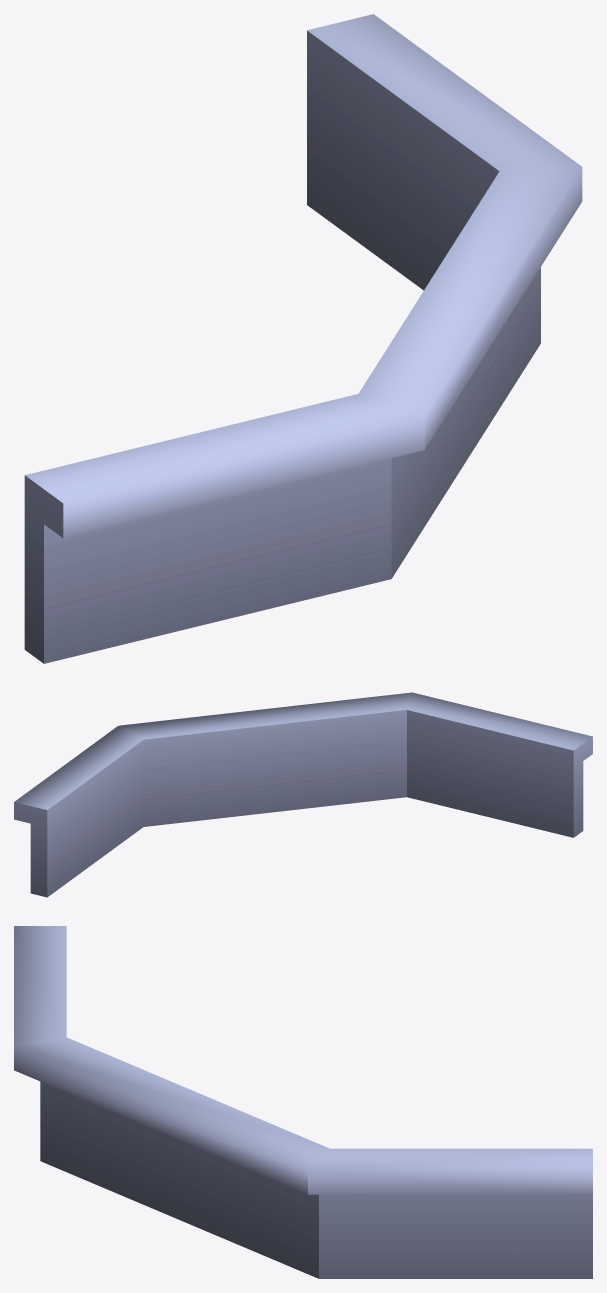
Rendered from border-high-corner-diagonal.glb.
The picture shows the model from 3 angles, top to bottom: view 1: azimuth 30°, elevation 25°; view 2: azimuth 150°, elevation 25°; view 3: azimuth 270°, elevation 25°; orthographic projection. The views are drawn at different scales.
Parts seen in each view (by area): view 1: border-high-corner-diagonal; view 2: border-high-corner-diagonal; view 3: border-high-corner-diagonal.
Part boxes in pixels (x1,y1,x2,y2): border-high-corner-diagonal: (24, 14, 582, 663); border-high-corner-diagonal: (14, 692, 592, 897); border-high-corner-diagonal: (14, 926, 592, 1278).
Size of the model in its own units: 2.2 by 0.5001 by 2.2.
1 material, 1 textured.
